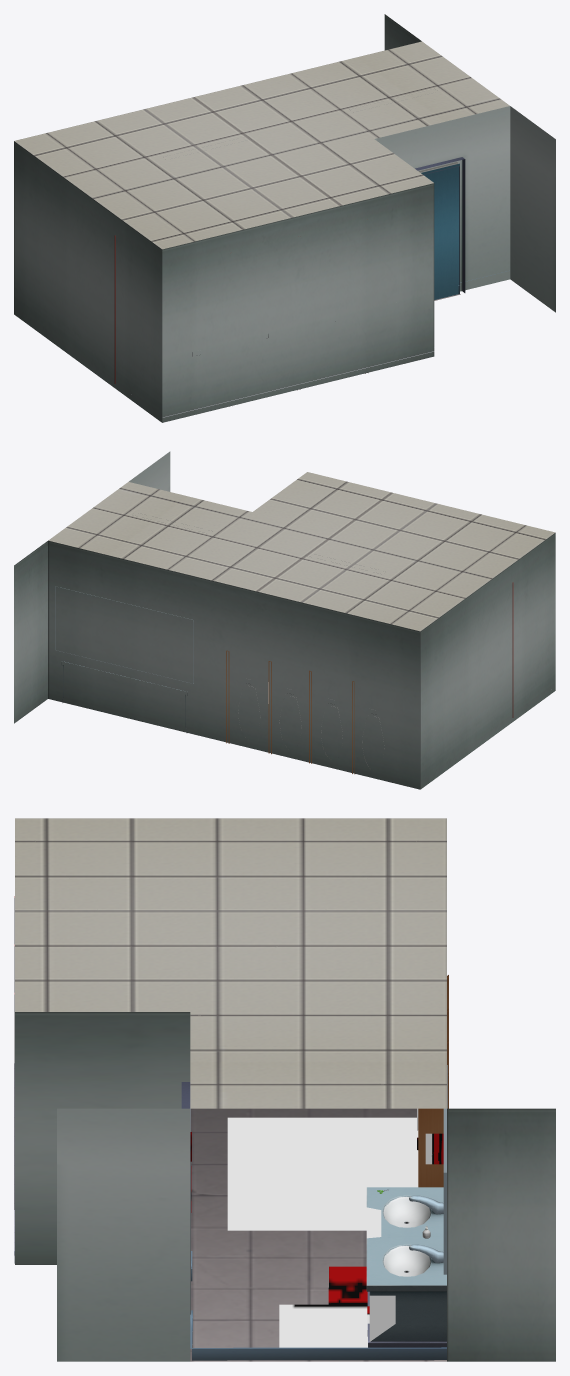
Rendered from CeSuo_01.FBX.
The picture shows the model from 3 angles, top to bottom: view 1: azimuth 30°, elevation 25°; view 2: azimuth 150°, elevation 25°; view 3: azimuth 270°, elevation 25°; orthographic projection. The views are drawn at different scales.
Parts seen in each view (by area): view 1: CeSuo_wuzi_01, CeSuo_fangding_01; view 2: CeSuo_wuzi_01, CeSuo_fangding_01, CeSuo_dangban_01; view 3: CeSuo_wuzi_01, CeSuo_fangding_01, CeSuo_xue_01, CeSuo_xishoutai_01, CeSuo_xue_02, CeSuo_dangban_01, CeSuo_xue_03, CeSuo_jingzi_01.
Boxes of the visible parts, x1,y1,x2,y2 form: CeSuo_wuzi_01: (14, 14, 555, 422); CeSuo_fangding_01: (14, 41, 509, 249); CeSuo_wuzi_01: (14, 451, 555, 789); CeSuo_fangding_01: (48, 472, 555, 631); CeSuo_dangban_01: (226, 650, 354, 774); CeSuo_wuzi_01: (14, 1012, 555, 1361); CeSuo_fangding_01: (15, 818, 446, 1108); CeSuo_xue_01: (227, 1117, 418, 1230); CeSuo_xishoutai_01: (366, 1187, 446, 1347); CeSuo_xue_02: (279, 1266, 367, 1347); CeSuo_dangban_01: (418, 975, 448, 1187); CeSuo_xue_03: (369, 1108, 418, 1341); CeSuo_jingzi_01: (443, 1065, 447, 1274).
Bounding box in the file's own units: 2848 × 1162 × 2245.
